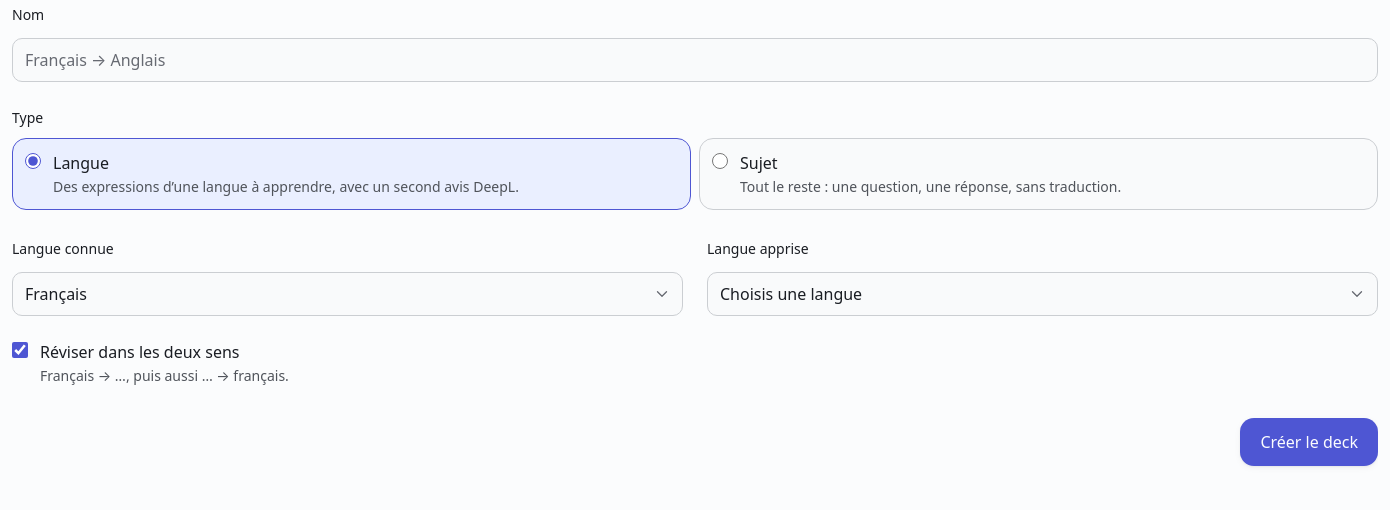
Test: DeckForm › switches to the faces of a subject, Question / Réponse, one way by default
Click the radio button labelled "Sujet": (720, 161) [712,153,728,169]
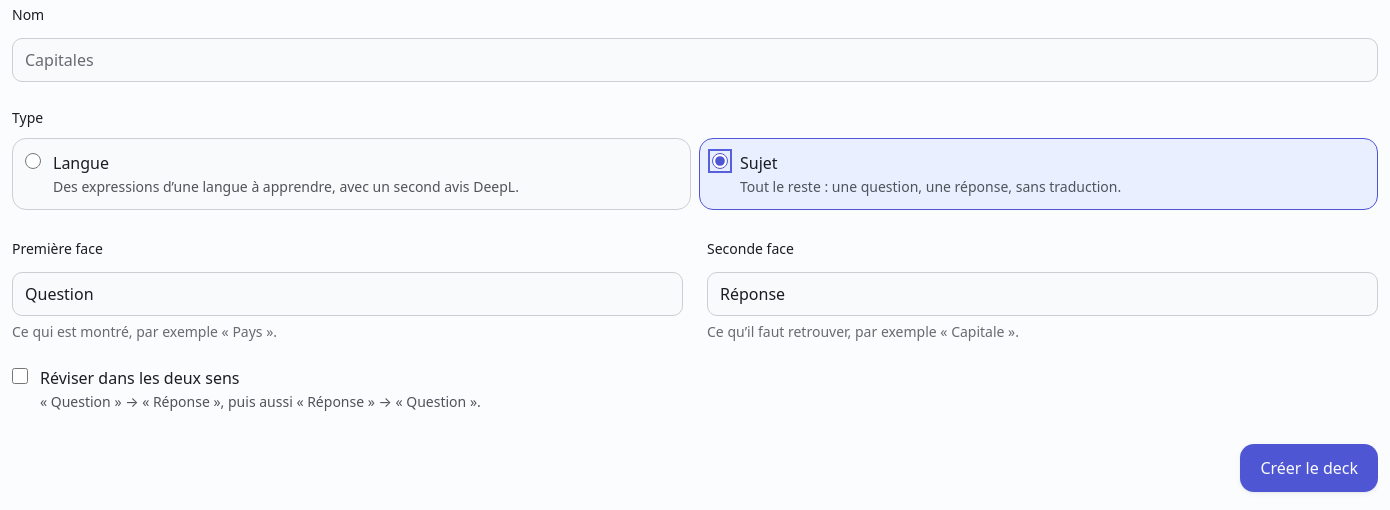
Check: the label labelled "Langue connue" is gone
Check: the field labelled "Première face" holds "Question", box [12,272,683,316]
Check: the field labelled "Seconde face" holds "Réponse", box [707,272,1378,316]
